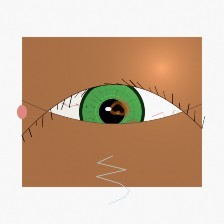foreign_body_visible: (106, 98, 137, 123)
